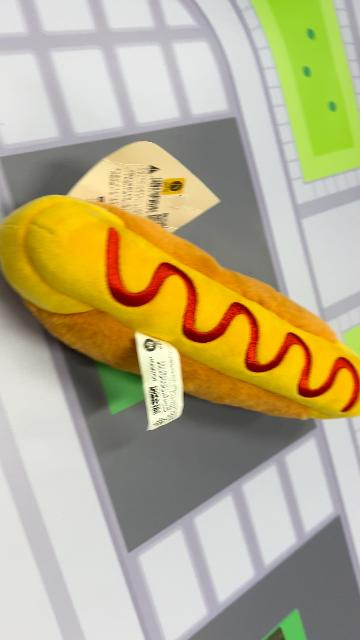hotdog: (1, 194, 358, 424)
